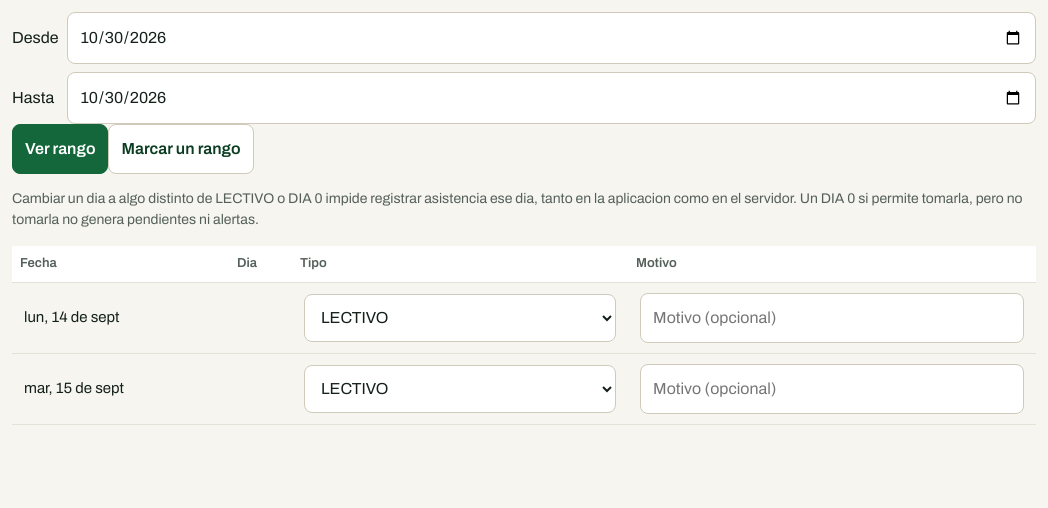
Test: PanelCalendario › si el servidor falla lo dice en vez de fingir que guardo
This screenshot has width=1048, height=508.
Select "SUSPENDIDO" in the dropdown named "Tipo de dia para 2026-09-14" at (460, 318), box top-left (304, 294), bottom-right (616, 342)
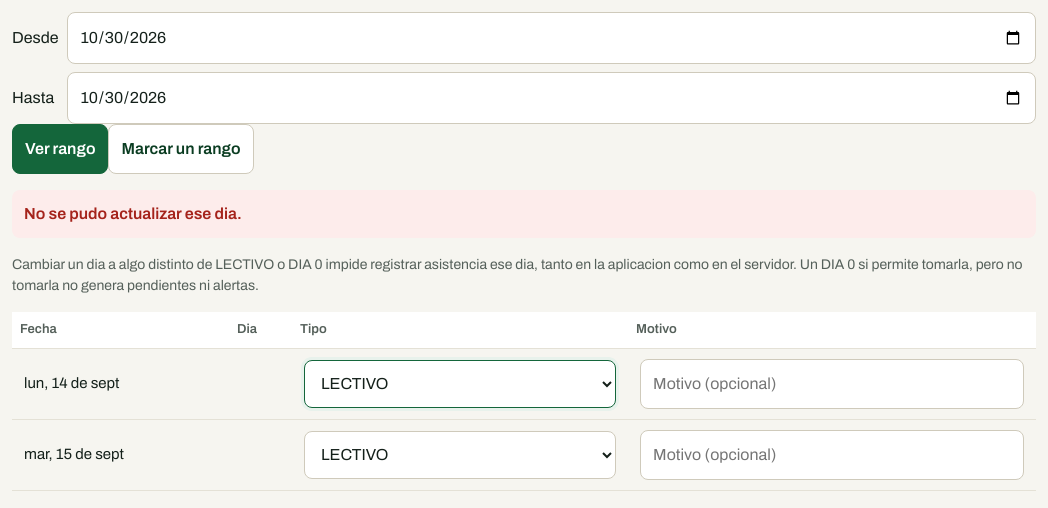
Now the message shows "No se pudo actualizar", box top-left (24, 205), bottom-right (242, 222)
